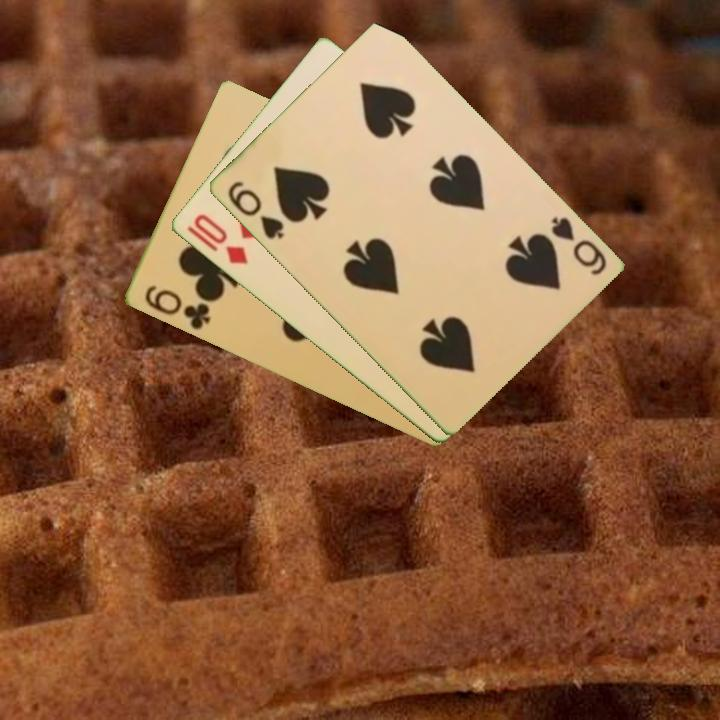10d: (189, 210, 251, 268)
6c: (140, 281, 213, 333)
6s: (223, 177, 287, 242), (547, 213, 609, 278)
